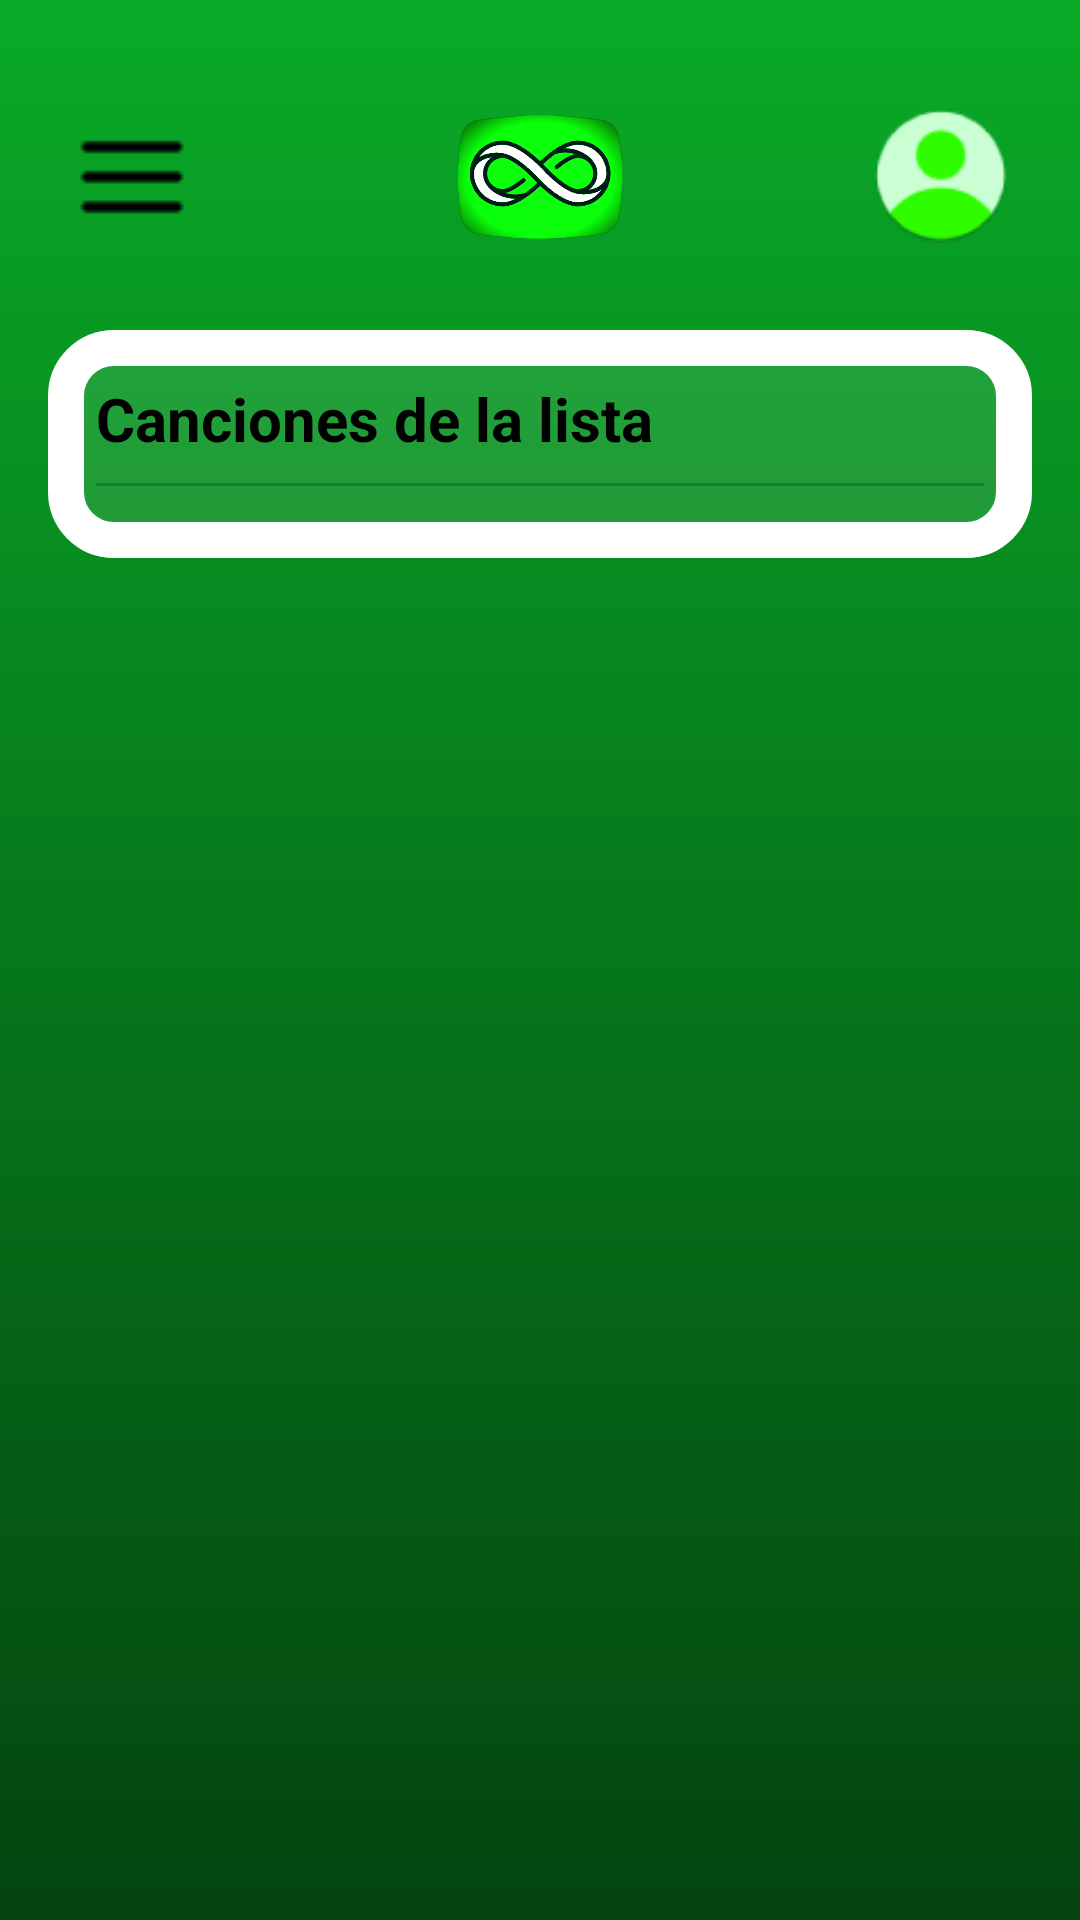

Where icons sit on this 1080px x 1920px app screen, as [left=x1, top=y1, right=x2, bottom=y2]:
menu: [left=80, top=140, right=184, bottom=214]
